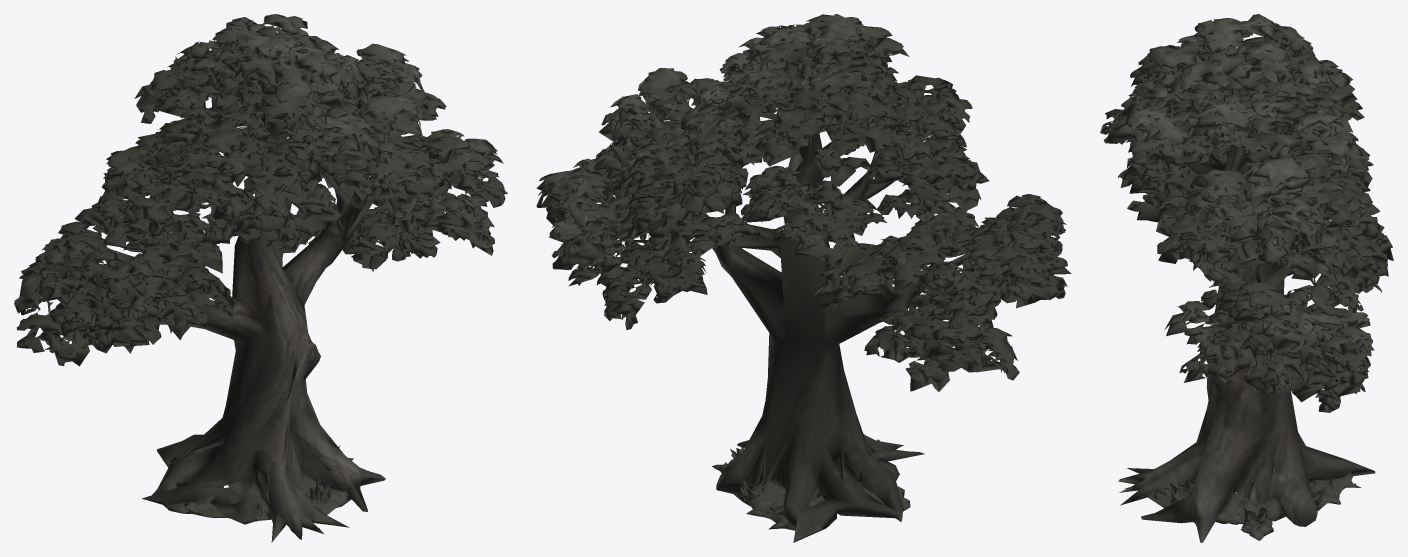
Rendered from war_oak_burnt_01.glb.
The picture shows the model from 3 angles, left to right: view 1: azimuth 30°, elevation 25°; view 2: azimuth 150°, elevation 25°; view 3: azimuth 270°, elevation 25°; orthographic projection.
Visible parts, largest first — view 1: world; view 2: world; view 3: world.
Part boxes in pixels (<box>): world: <box>14,14,507,542</box>; world: <box>536,14,1071,542</box>; world: <box>1100,14,1393,542</box>.
Bounding box in the file's own units: 0.9901 × 0.8808 × 0.5044.
Materials: 1 (1 with a texture image).
